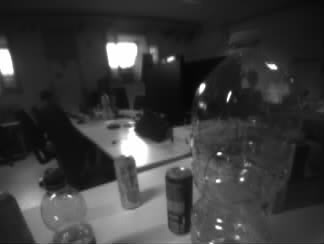Bottle: (194, 31, 285, 244), (42, 169, 94, 244)
Tin can: (166, 167, 192, 234), (113, 154, 142, 207)
